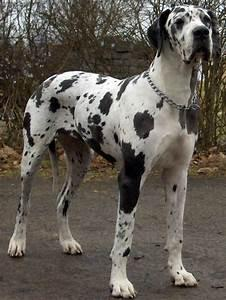dog: (7, 4, 221, 299)
